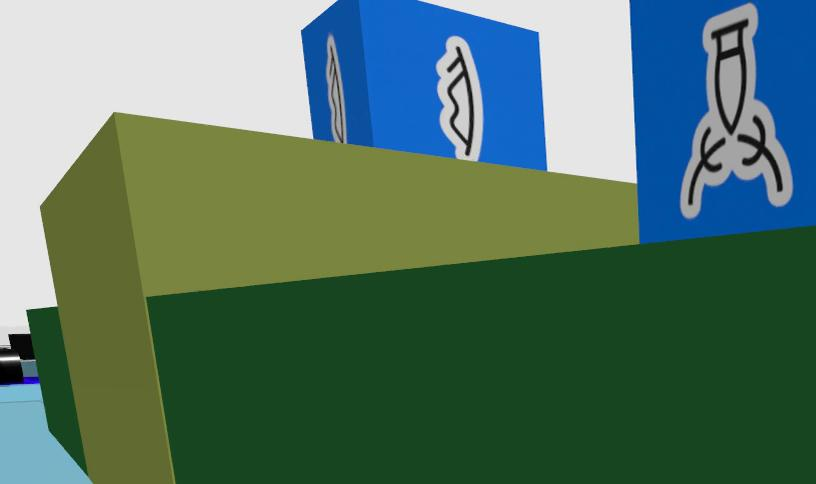KFS_REAL: (630, 0, 816, 242), (302, 0, 547, 168), (680, 3, 792, 218), (437, 36, 482, 159), (324, 34, 347, 143)
